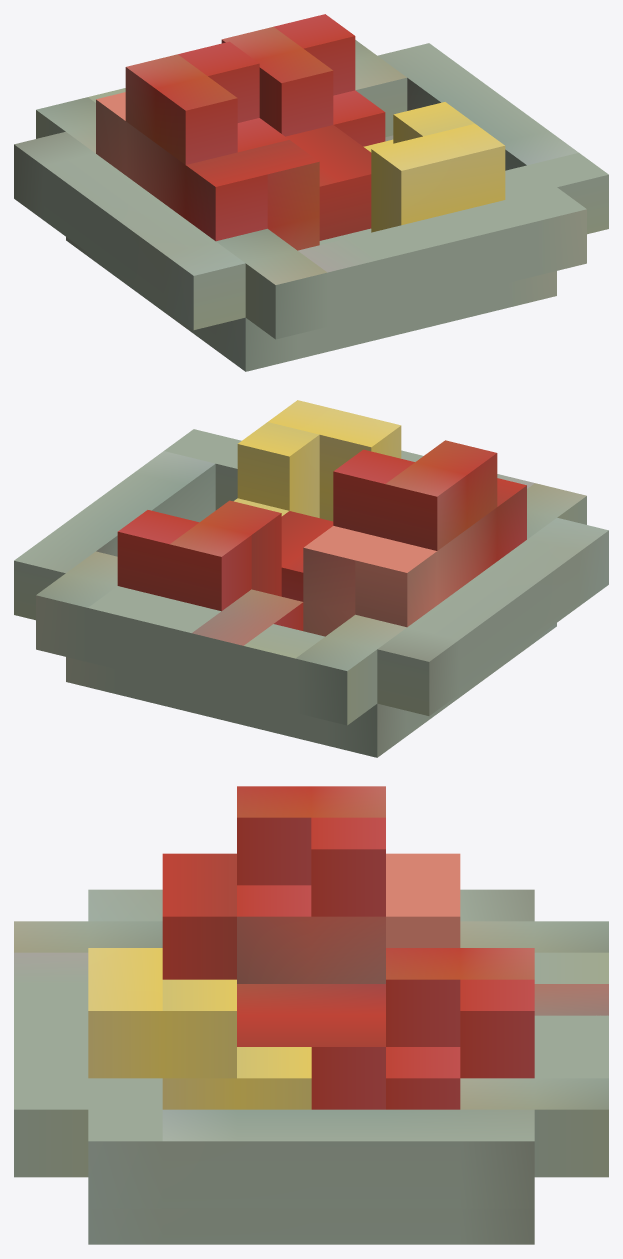
File: PlateWithFood_00.fbx
The picture shows the model from 3 angles, top to bottom: view 1: azimuth 30°, elevation 25°; view 2: azimuth 150°, elevation 25°; view 3: azimuth 270°, elevation 25°; orthographic projection. The views are drawn at different scales.
Parts seen in each view (by area): view 1: PlateWithFood_00; view 2: PlateWithFood_00; view 3: PlateWithFood_00.
Boxes of the visible parts, x1,y1,x2,y2 form: PlateWithFood_00: (14, 14, 608, 371); PlateWithFood_00: (14, 400, 608, 757); PlateWithFood_00: (14, 786, 608, 1244).
Bounding box in the file's own units: 40 × 40 × 20.
Materials: 1 (1 with a texture image).
